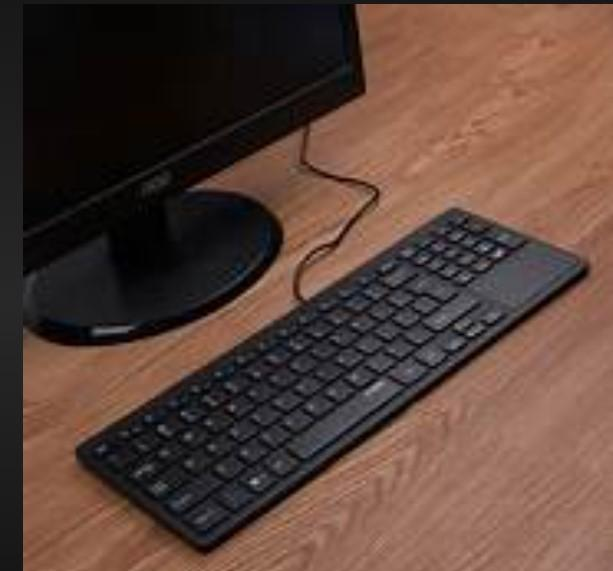Keyboard: (73, 209, 586, 553)
